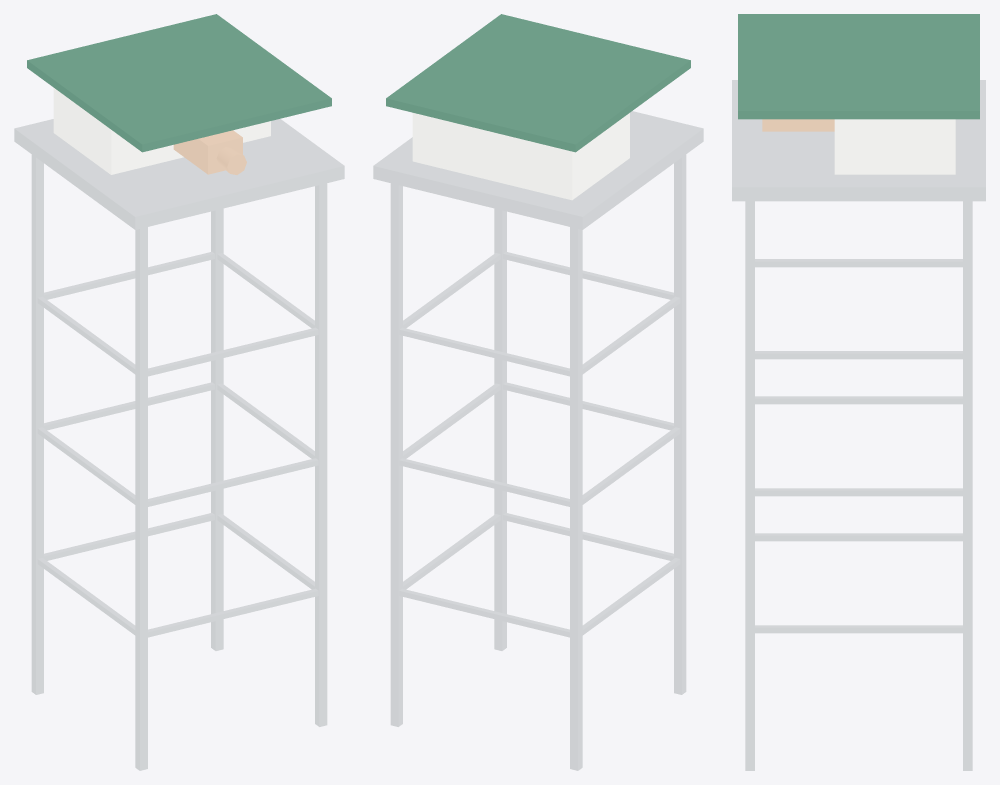
File: Blender_TVTower_1.glb
3 renders of one model, left to right at view 1: azimuth 30°, elevation 25°; view 2: azimuth 150°, elevation 25°; view 3: azimuth 270°, elevation 25°, orthographic. The views are drawn at different scales.
Parts seen in each view (by area): view 1: Blender_TVTower_1; view 2: Blender_TVTower_1; view 3: Blender_TVTower_1.
Boxes of the visible parts, box(x1,y1,x2,y2) form: Blender_TVTower_1: box(14, 14, 344, 770); Blender_TVTower_1: box(373, 14, 703, 770); Blender_TVTower_1: box(732, 14, 985, 770).
Size of the model in its own units: 4.2 by 12.05 by 4.2.
